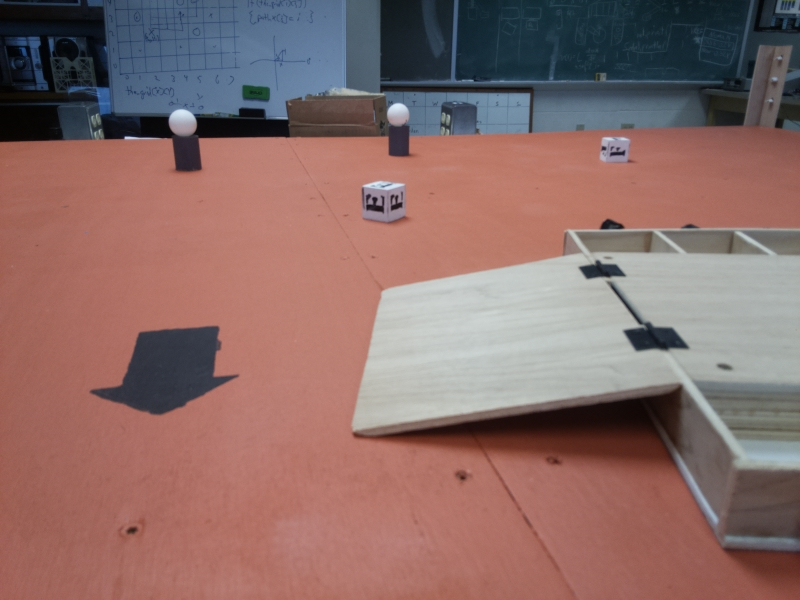blockE: (358, 175, 412, 224)
blockF: (601, 134, 630, 163)
corner: (751, 44, 783, 129)
obstacle: (163, 112, 207, 175), (385, 102, 413, 159)
slope: (362, 249, 685, 453)
start: (93, 322, 243, 424)
